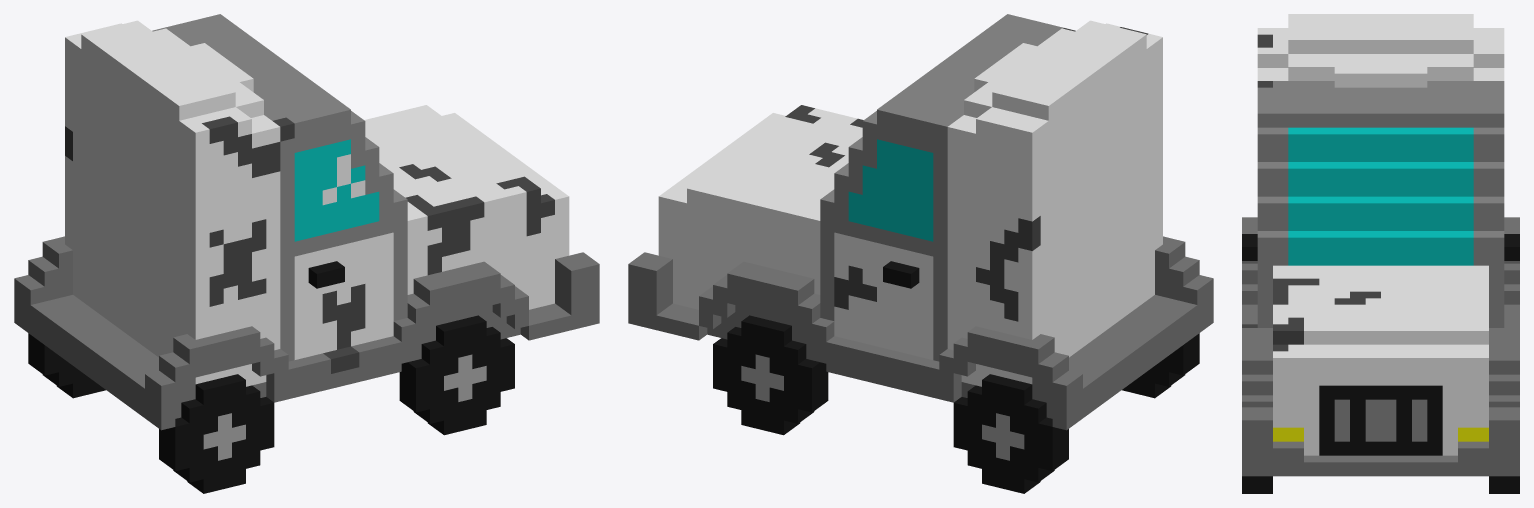
The model's file is truck1_health0.obj.
3 renders of one model, left to right at view 1: azimuth 30°, elevation 25°; view 2: azimuth 150°, elevation 25°; view 3: azimuth 270°, elevation 25°, orthographic. The views are drawn at different scales.
Parts seen in each view (by area): view 1: truck1_health0; view 2: truck1_health0; view 3: truck1_health0.
Boxes of the visible parts, x1=… form: truck1_health0: x1=14, y1=14, x2=599, y2=493; truck1_health0: x1=628, y1=14, x2=1213, y2=493; truck1_health0: x1=1242, y1=14, x2=1519, y2=493.
Size of the model in its own units: 31 by 25 by 18.
1 material, 1 textured.
